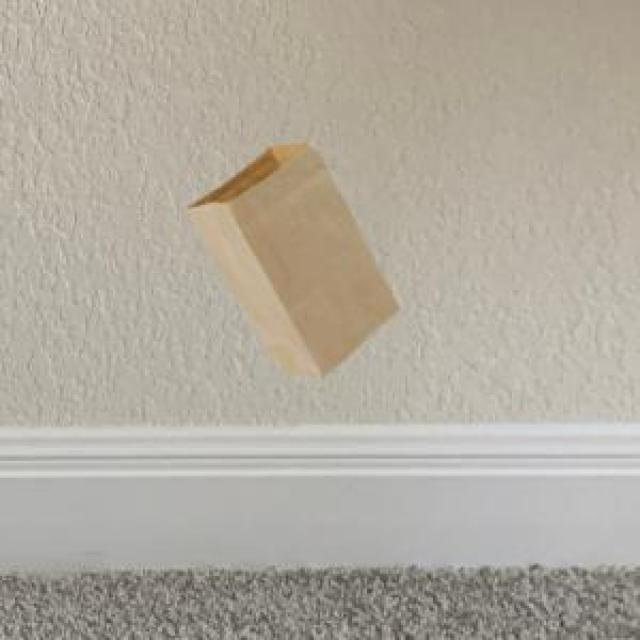paper: (184, 137, 395, 373)
